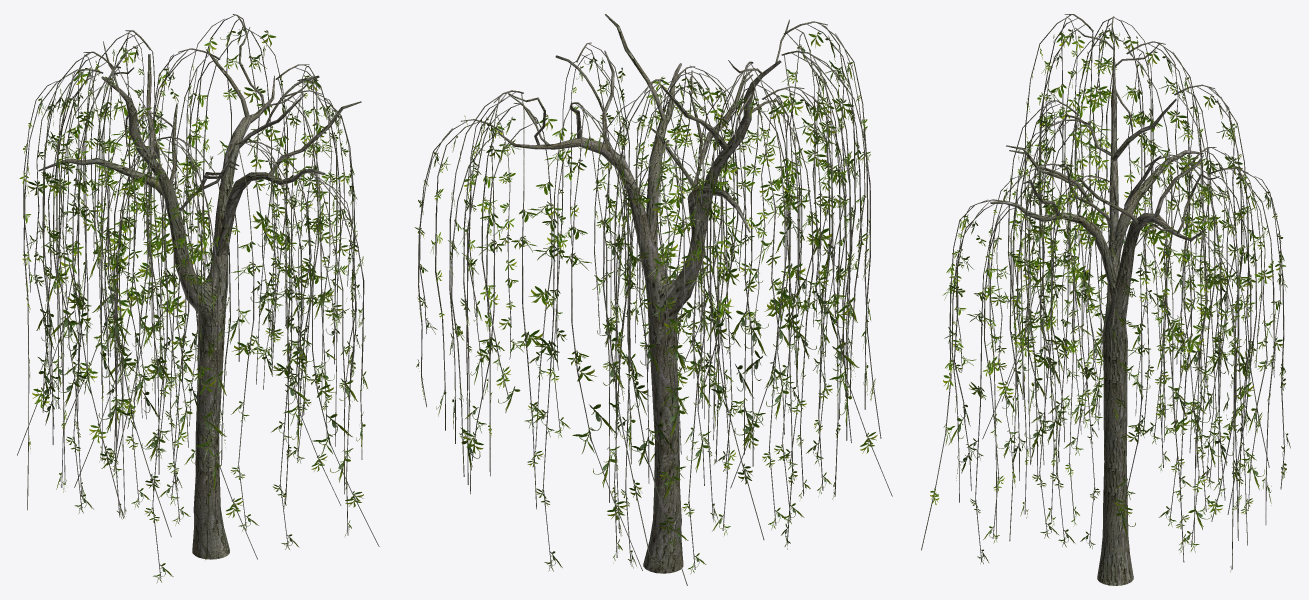
3 views of the same model, side by side, from view 1: azimuth 30°, elevation 25°; view 2: azimuth 150°, elevation 25°; view 3: azimuth 270°, elevation 25° (orthographic). The views are drawn at different scales.
Visible parts, largest first — view 1: 柳树; view 2: 柳树; view 3: 柳树.
Boxes of the visible parts, x1,y1,x2,y2 form: 柳树: (17,14,379,583); 柳树: (414,14,892,585); 柳树: (921,14,1290,585).
Bounding box in the file's own units: 38.12 × 49.43 × 33.02.
Materials: 1 (1 with a texture image).
